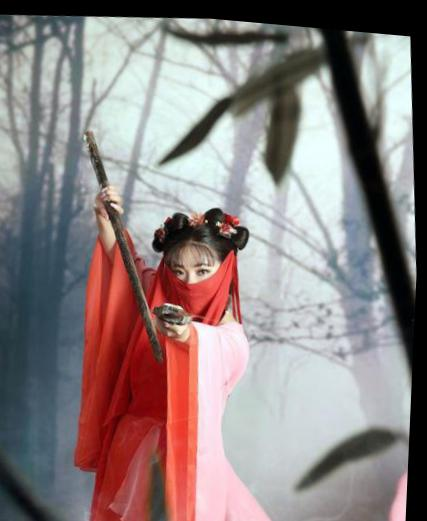WRONG: (168, 254, 222, 310)
